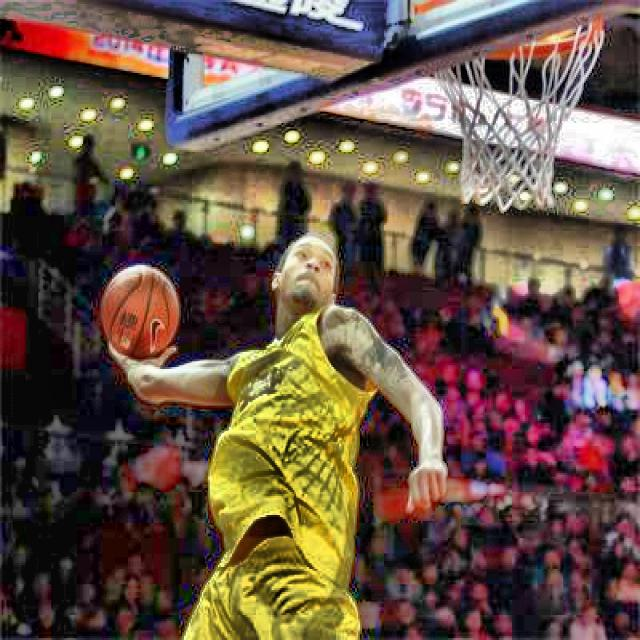board: (100, 264, 180, 359)
rim: (438, 19, 606, 212)
